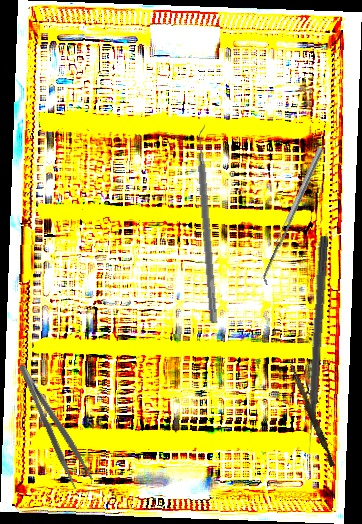Dressing Forceps: (15, 357, 95, 491)
Pusher: (301, 235, 330, 459), (285, 362, 338, 468)
Spatula Surgical: (258, 146, 330, 287), (192, 123, 227, 324)
